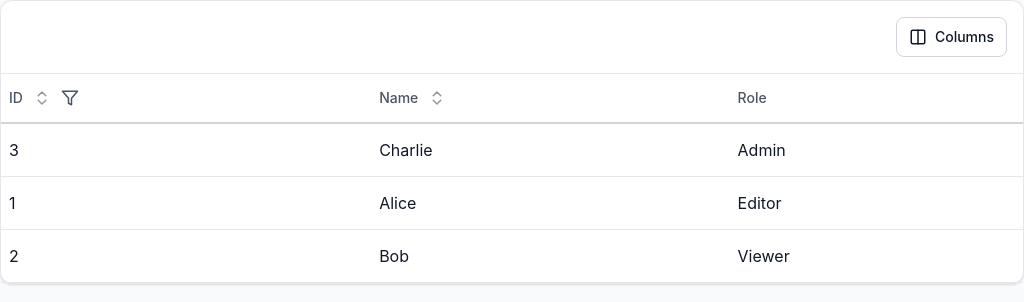
Test: DataTable Component › Column visibility › hides a column from the visibility menu
The width and height of the screenshot is (1024, 302).
Click the button "Columns" at (951, 37), box [896, 17, 1007, 57]
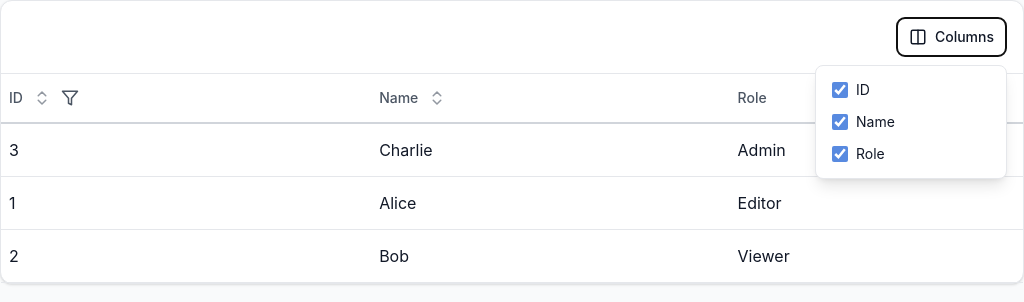
Click the checkbox labelled "Role" at (840, 154), box [832, 146, 848, 162]
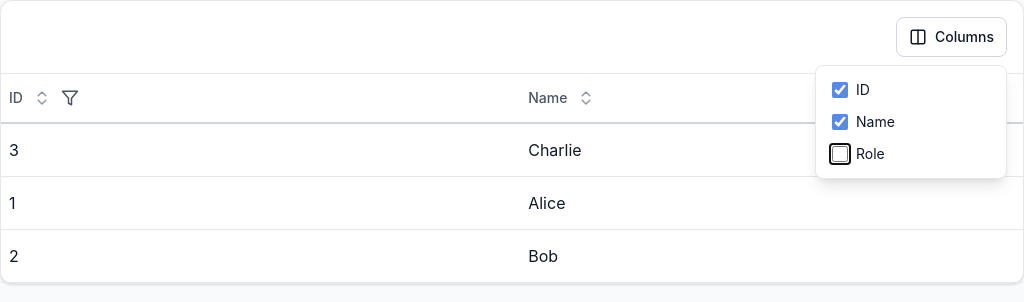
expect the text "Admin" is gone: met
